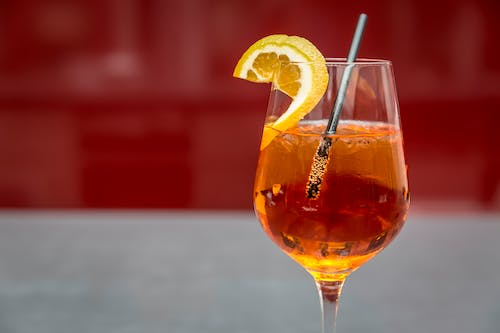alcohol: (253, 58, 410, 333)
